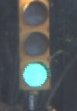Green: (14, 2, 53, 93)
